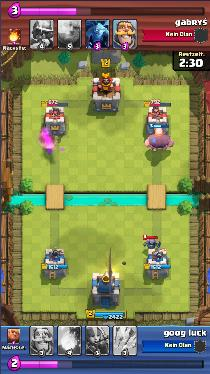ally_giant: (144, 128, 174, 150)
enemy_mini_pekka: (142, 238, 161, 250)
